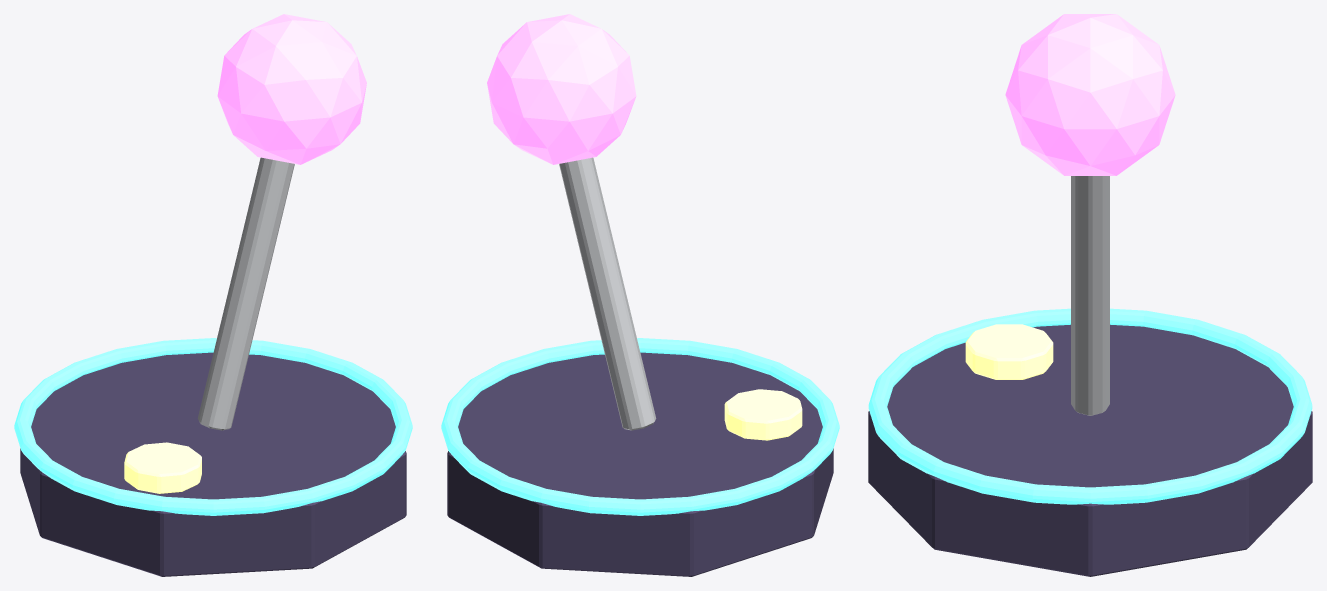
3 views of the same model, side by side, from view 1: azimuth 30°, elevation 25°; view 2: azimuth 150°, elevation 25°; view 3: azimuth 270°, elevation 25° (orthographic). The views are drawn at different scales.
Visible parts, largest first — view 1: GiantJoystick; view 2: GiantJoystick; view 3: GiantJoystick.
Part boxes in pixels (x1,y1,x2,y2): GiantJoystick: (14, 14, 412, 576); GiantJoystick: (441, 14, 839, 576); GiantJoystick: (868, 14, 1312, 576).
Bounding box in the file's own units: 2.19 × 2.77 × 2.19.
